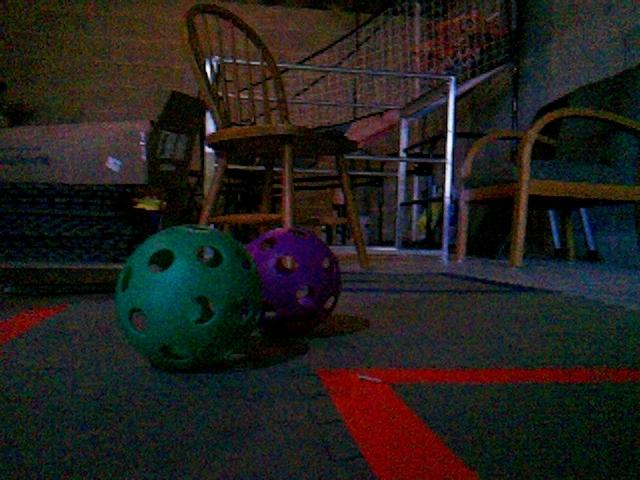Green: (111, 223, 265, 369)
Purple: (242, 227, 342, 333)
